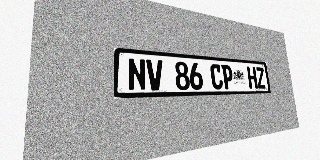6: (189, 62, 203, 90)
8: (174, 61, 190, 90)
C: (210, 64, 223, 89)
H: (247, 66, 258, 89)
N: (127, 58, 146, 91)
P: (221, 65, 234, 89)
V: (146, 59, 164, 91)
Z: (255, 67, 266, 89)
